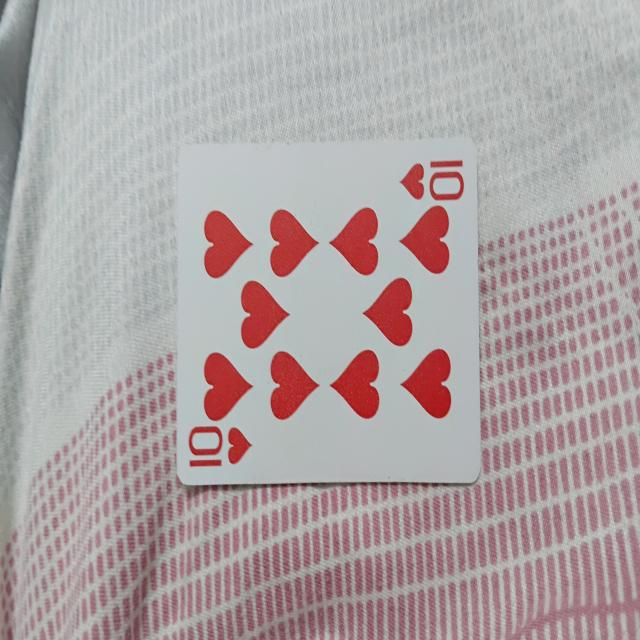10H: (176, 140, 482, 484)
